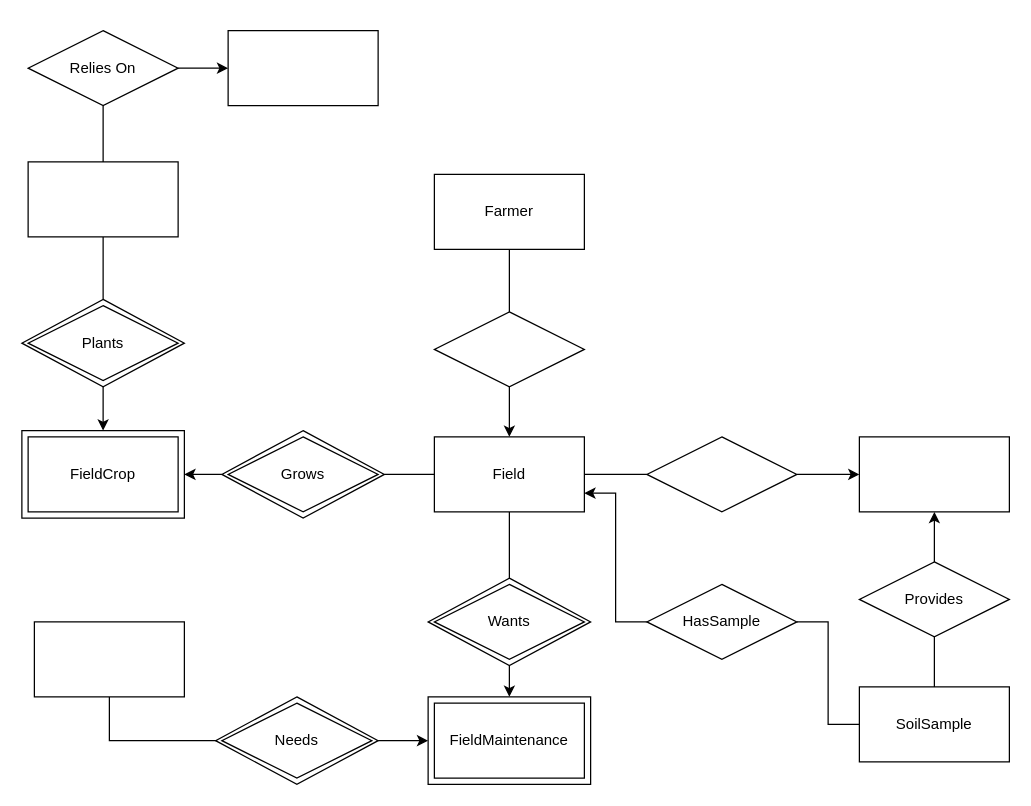
Image size: 1031x806. Some labels were removed from this diagram. Here are the shapes that lost their labels. From the top down, the box of each, then its label:
(227, 29, 378, 106): Season
(27, 161, 178, 237): Crop
(433, 311, 584, 387): Owns
(646, 436, 797, 512): Has
(858, 436, 1009, 512): SoilType
(33, 621, 184, 697): Maintenance
